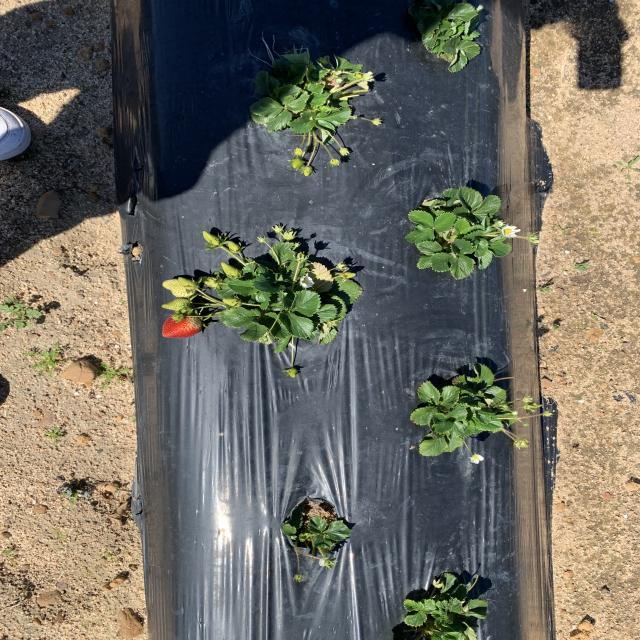unripe: (159, 315, 206, 338)
